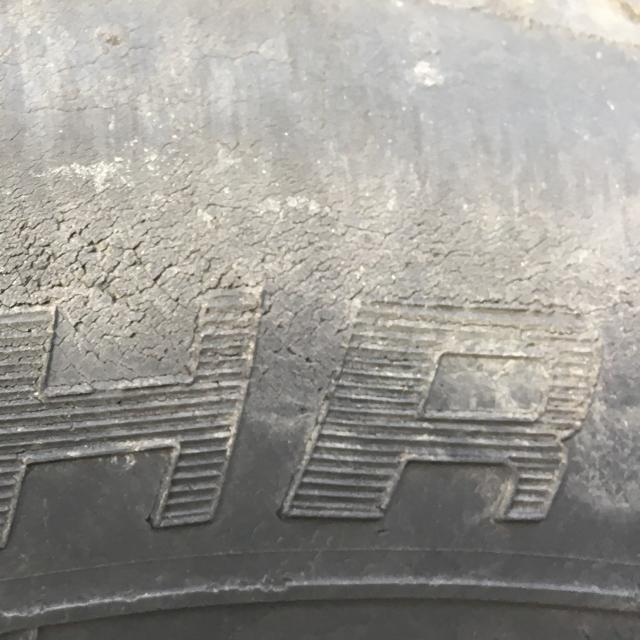Cracks: (0, 144, 640, 360)
Non-defective: (5, 408, 640, 640)
